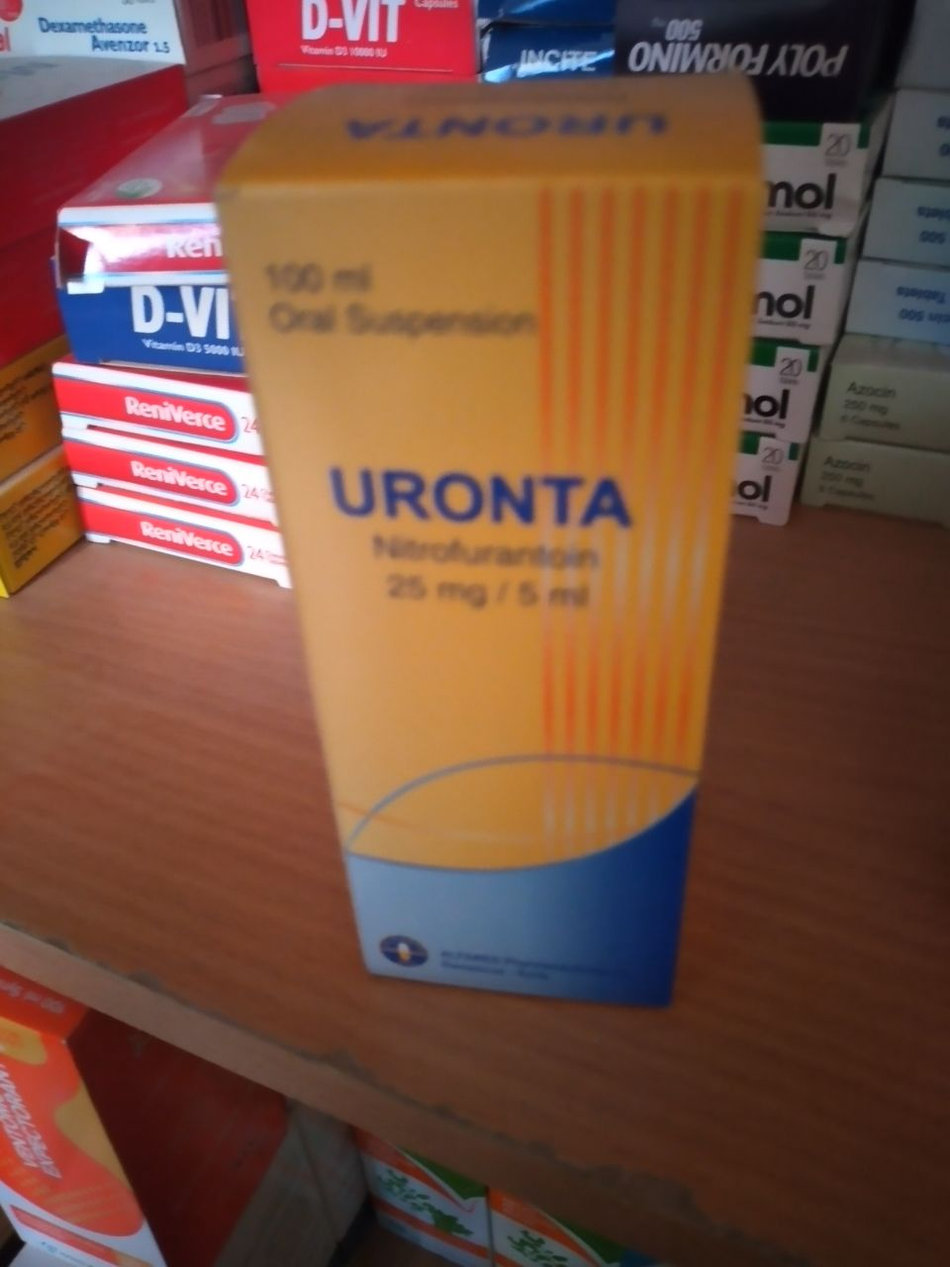Medicine: (205, 63, 778, 1006)
